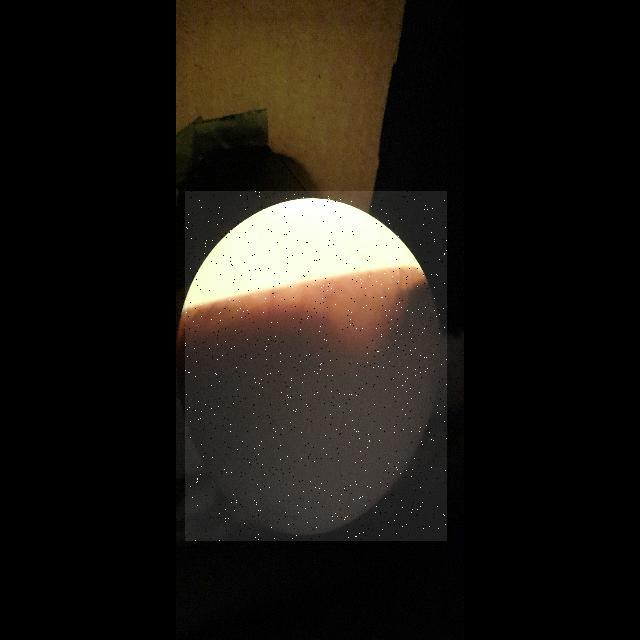Fertile: (185, 191, 447, 541)
